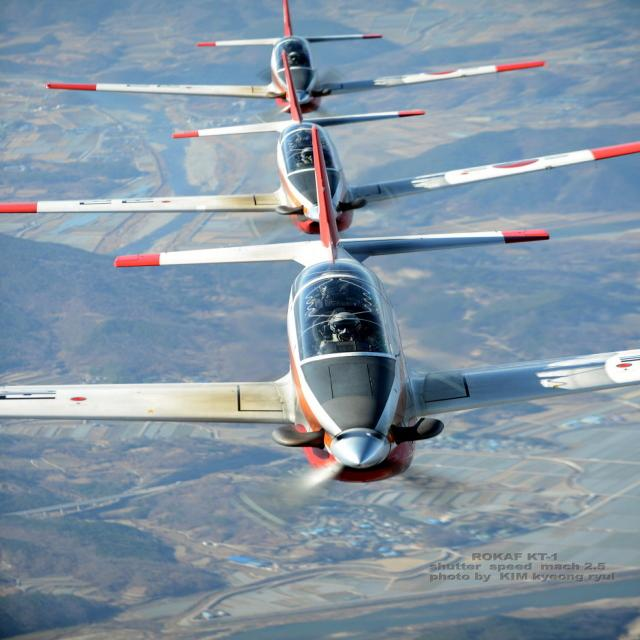KT-1: (16, 123, 636, 482), (1, 57, 632, 233), (44, 2, 550, 112)
